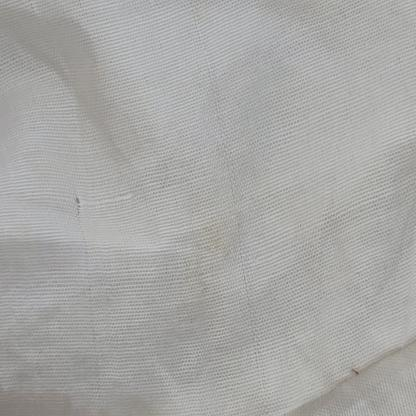spot: (192, 211, 226, 265)
